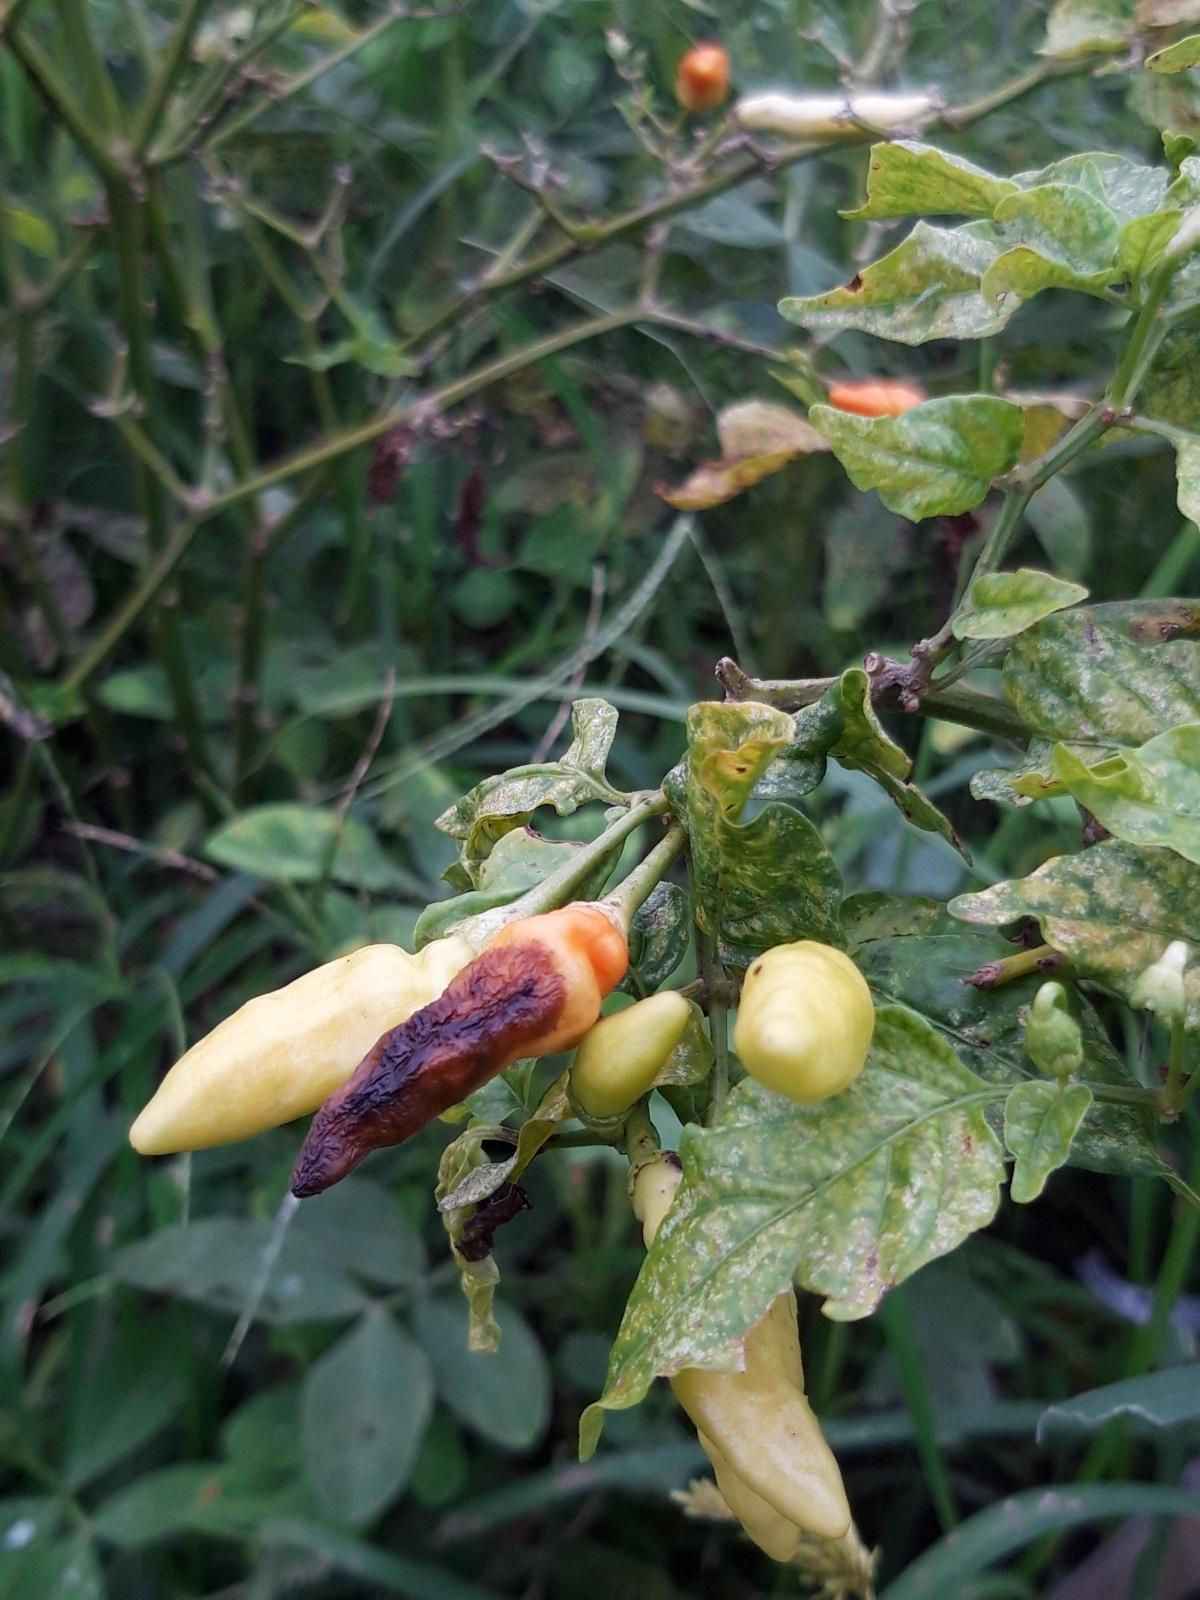antraknosa: (290, 900, 629, 1198)
cabai_normal: (130, 905, 521, 1155), (628, 1149, 852, 1537), (735, 939, 876, 1102), (566, 989, 692, 1130), (727, 93, 932, 136), (676, 50, 730, 110), (829, 386, 920, 418)
